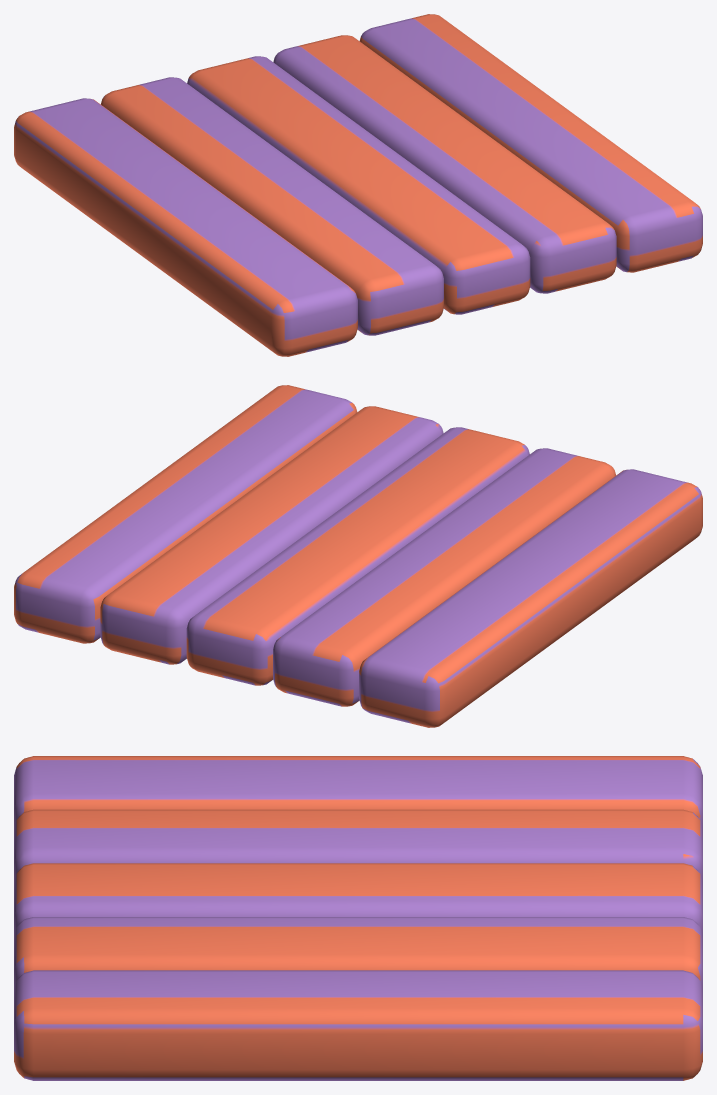
The model's file is pastel_bedspread_02.glb.
The picture shows the model from 3 angles, top to bottom: view 1: azimuth 30°, elevation 25°; view 2: azimuth 150°, elevation 25°; view 3: azimuth 270°, elevation 25°; orthographic projection. The views are drawn at different scales.
Visible parts, largest first — view 1: pastel_bedspread_02; view 2: pastel_bedspread_02; view 3: pastel_bedspread_02.
Boxes of the visible parts, <box> form: pastel_bedspread_02: <box>14,14,702,356</box>; pastel_bedspread_02: <box>14,385,702,727</box>; pastel_bedspread_02: <box>14,756,702,1080</box>.
Bounding box in the file's own units: 1.61 × 0.2 × 1.76.
Materials: 2 (2 with a texture image).
